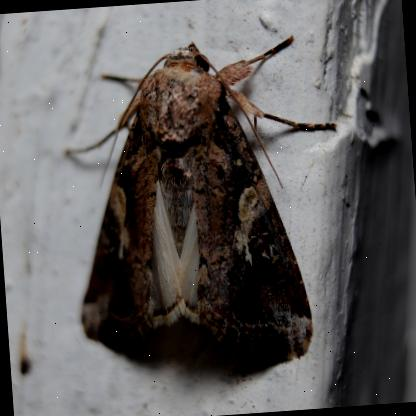Fall Armyworm Moth: (52, 26, 357, 380)
